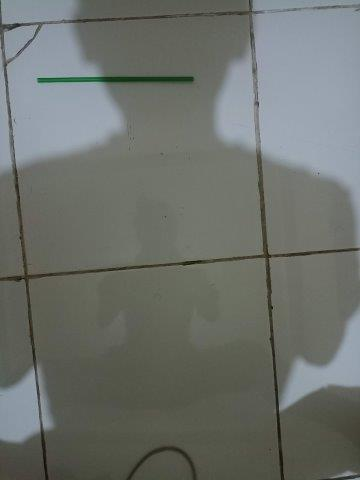sedotan: (38, 76, 194, 83)
